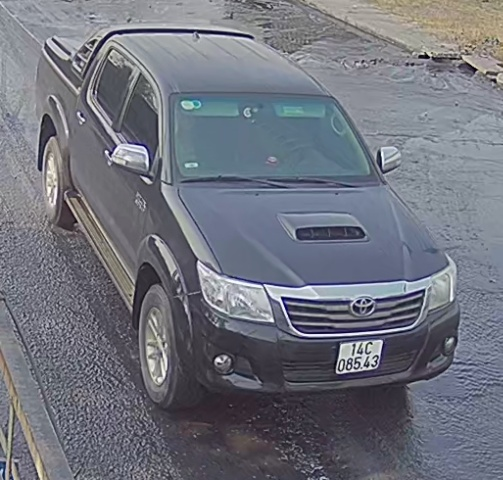vehicle plate: (335, 337, 387, 373)
